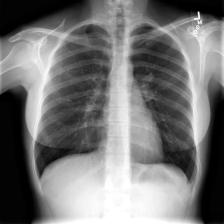normal: (32, 18, 200, 191)
